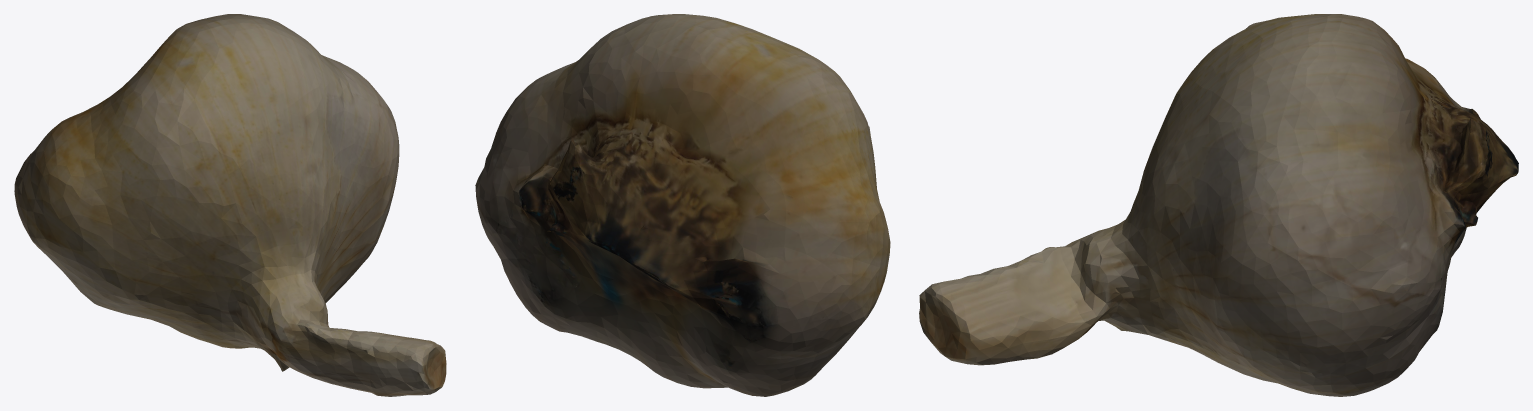
The model's file is Garlic.obj.
The picture shows the model from 3 angles, left to right: view 1: azimuth 30°, elevation 25°; view 2: azimuth 150°, elevation 25°; view 3: azimuth 270°, elevation 25°; orthographic projection. The views are drawn at different scales.
Parts seen in each view (by area): view 1: default; view 2: default; view 3: default.
Boxes of the visible parts, x1,y1,x2,y2 form: default: (14, 14, 446, 396); default: (475, 14, 890, 396); default: (919, 14, 1518, 396).
Bounding box in the file's own units: 15.73 × 13.67 × 20.78.
1 material, 1 textured.
